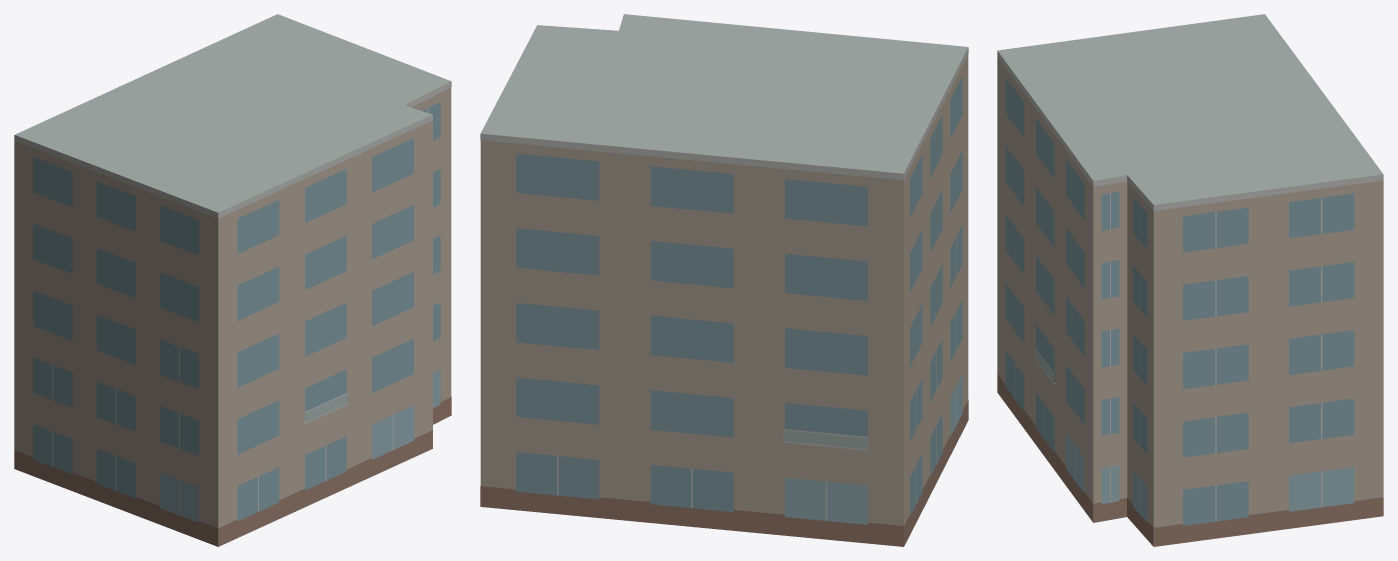
The model's file is survey-upis-32581779.glb.
The picture shows the model from 3 angles, left to right: view 1: azimuth 30°, elevation 25°; view 2: azimuth 150°, elevation 25°; view 3: azimuth 270°, elevation 25°; orthographic projection. The views are drawn at different scales.
Visible parts, largest first — view 1: survey-upis-32581779.tmp; view 2: survey-upis-32581779.tmp; view 3: survey-upis-32581779.tmp.
Boxes of the visible parts, bbox=[...] form: survey-upis-32581779.tmp: bbox=[14, 14, 451, 546]; survey-upis-32581779.tmp: bbox=[480, 14, 968, 546]; survey-upis-32581779.tmp: bbox=[997, 14, 1383, 546].
Bounding box in the file's own units: 16.55 × 13.8 × 14.14.
